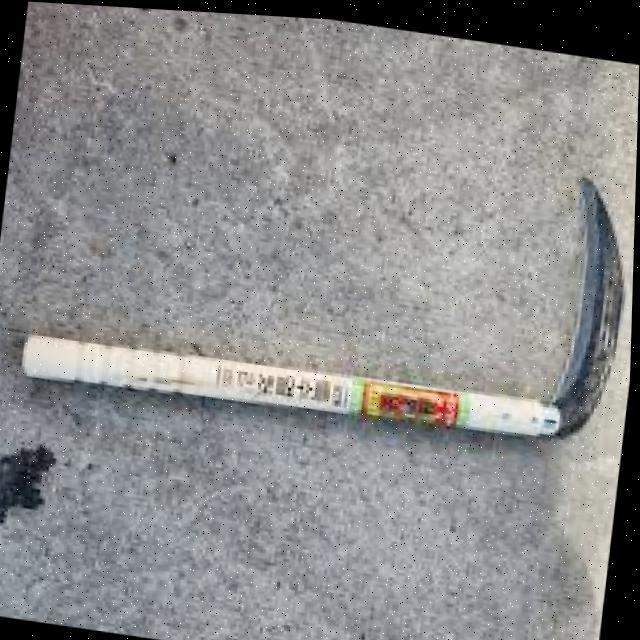sickle: (0, 62, 639, 523)
